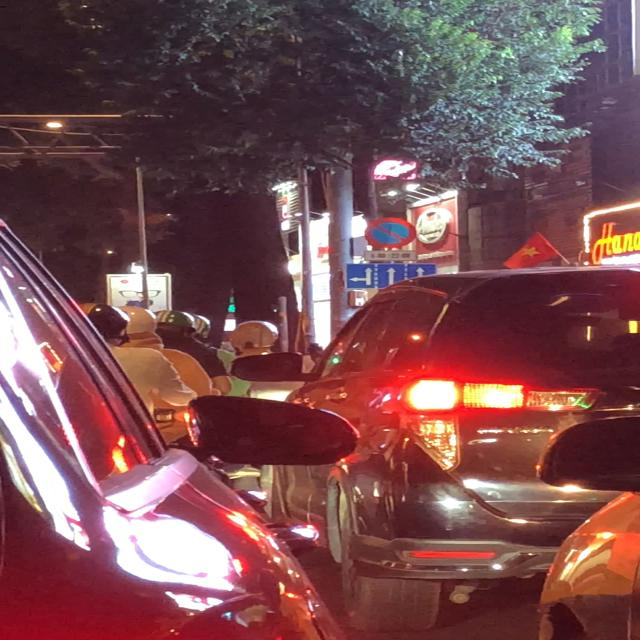Bien bao cam do xe: (360, 217, 419, 249)
